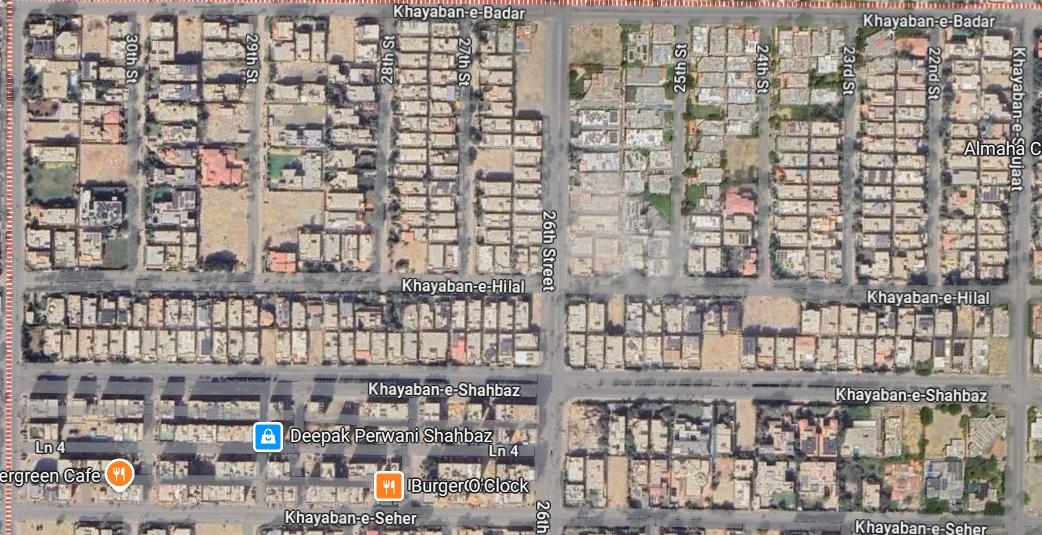Buildings: (561, 399, 1007, 512), (22, 296, 539, 367), (564, 294, 1007, 375), (260, 17, 380, 269), (142, 18, 252, 274), (26, 14, 133, 271), (568, 26, 676, 273), (940, 27, 1017, 285), (685, 27, 760, 272), (771, 27, 843, 282), (473, 24, 544, 278), (857, 30, 929, 278), (394, 25, 463, 274), (23, 390, 261, 446), (20, 458, 259, 509), (307, 400, 540, 445), (266, 459, 403, 505), (412, 456, 533, 504)
